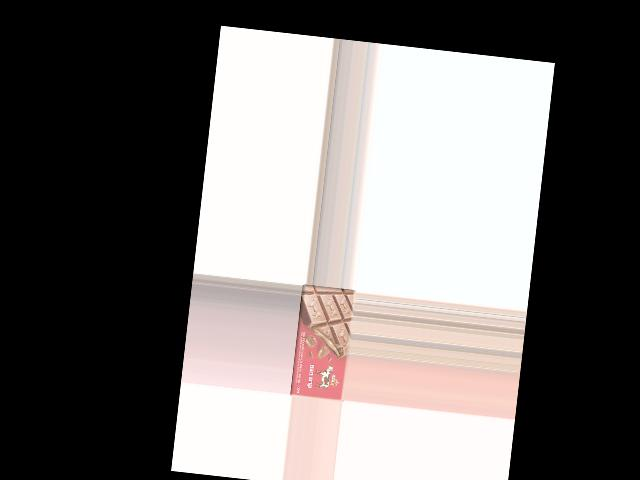chocolate: (290, 285, 355, 402)
